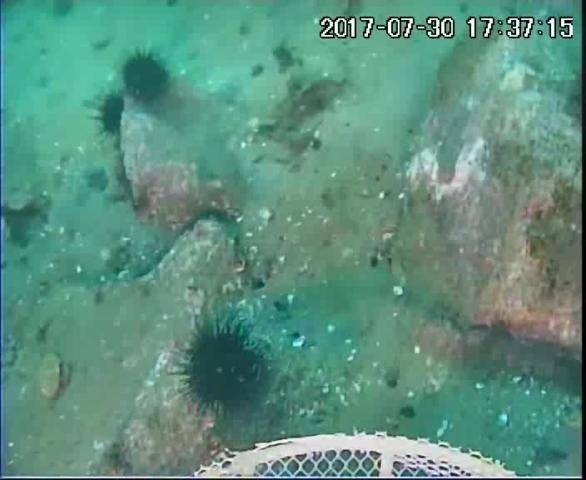echinus: (174, 316, 273, 417), (118, 47, 176, 107), (91, 89, 130, 140)
